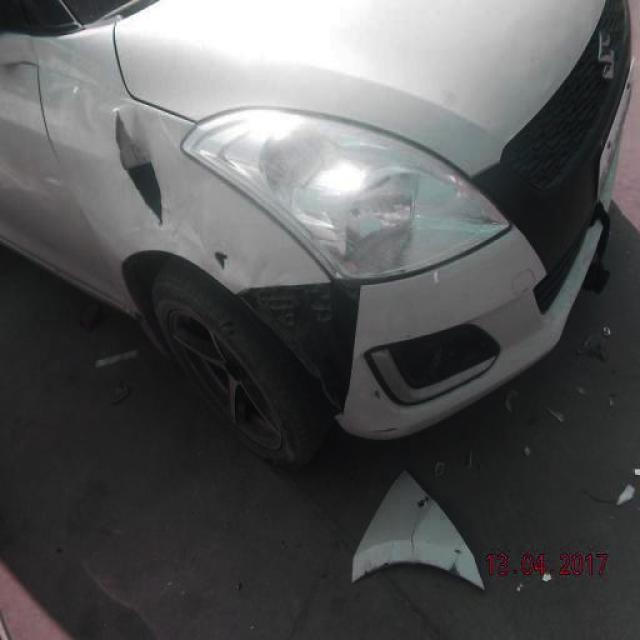car damage: (235, 285, 361, 422), (105, 104, 166, 235), (206, 246, 234, 274)
